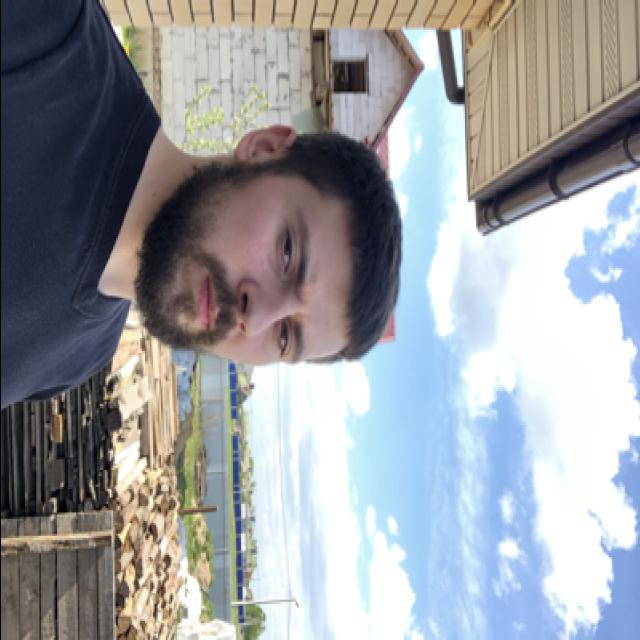without_mask: (134, 192, 326, 368)
